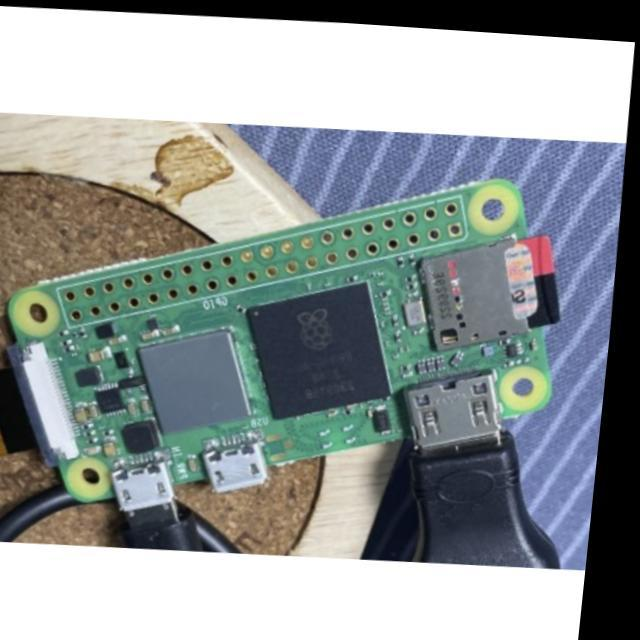Raspberry-Pi-Zero-2-W: (9, 180, 560, 519)
